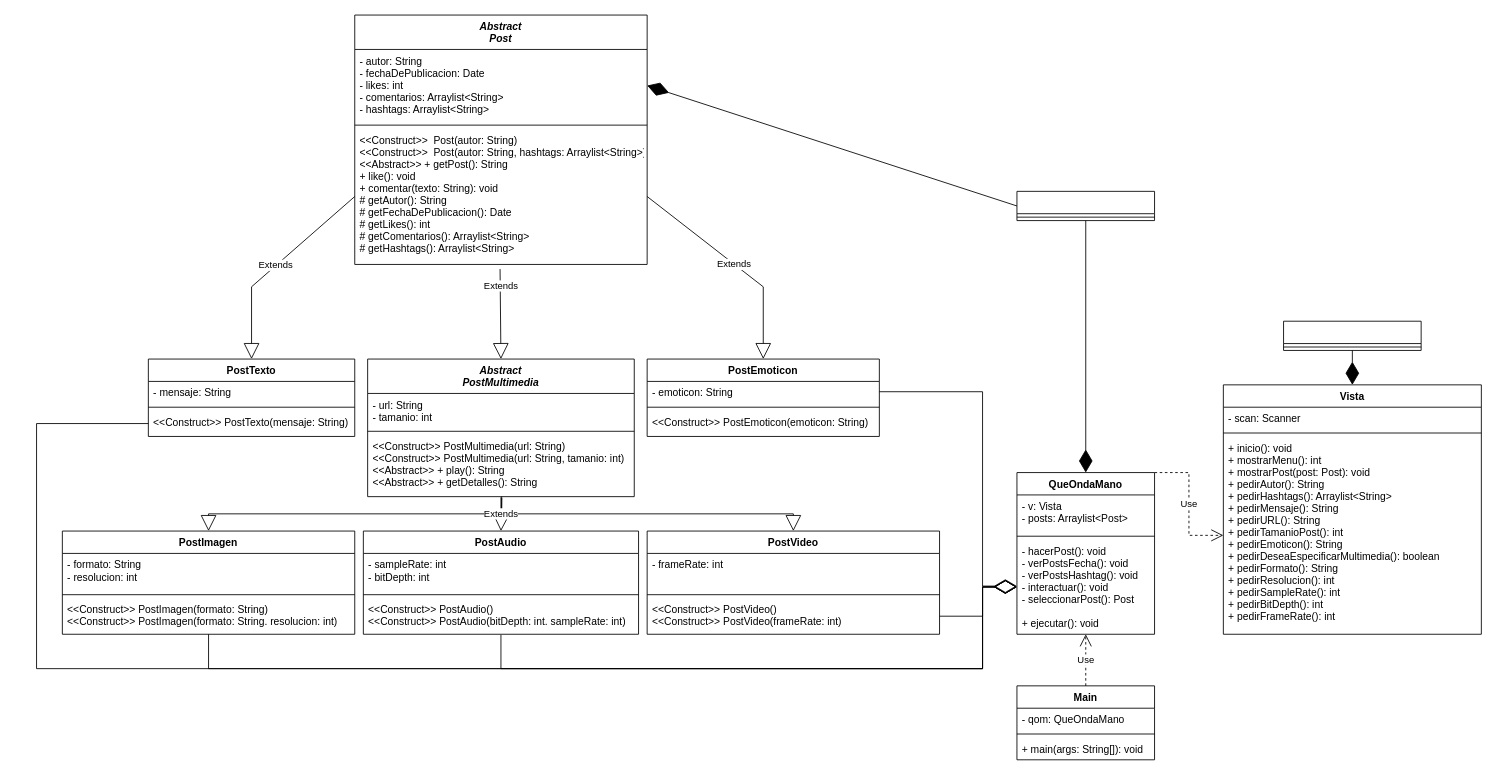
This 1496x777 diagram has some shape labels left out. The shapes that lost their labels are listed below. From the top down, each one's centre as x and y in pixels, then its label:
(1085,205): Arraylist
(1352,335): Scanner
